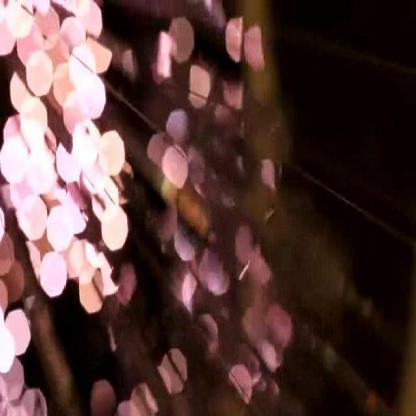other: (0, 4, 142, 367)
